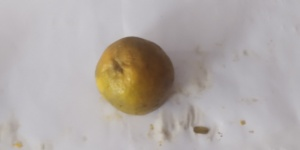BAD: (94, 35, 177, 117)
